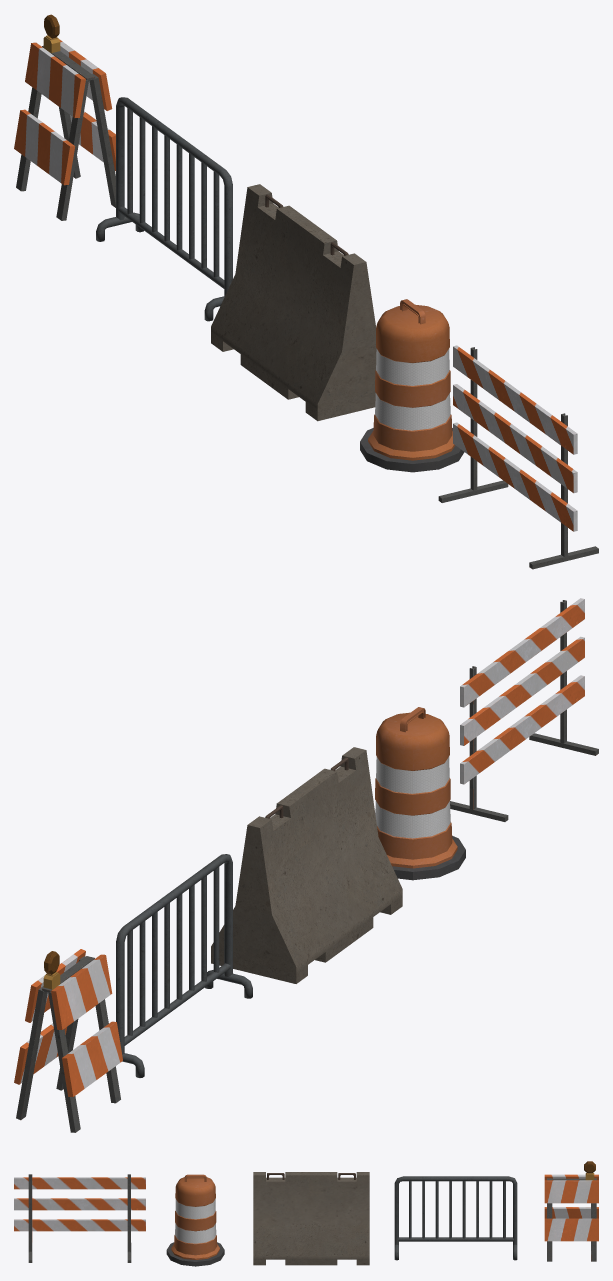
The picture shows the model from 3 angles, top to bottom: view 1: azimuth 30°, elevation 25°; view 2: azimuth 150°, elevation 25°; view 3: azimuth 270°, elevation 25°; orthographic projection. The views are drawn at different scales.
Parts seen in each view (by area): view 1: jersey_barrier, traffic_cone_tall, traffic_sign, traffic_sign.002, Cube.009; view 2: jersey_barrier, traffic_cone_tall, traffic_sign, traffic_sign.002, Cube.009; view 3: jersey_barrier, traffic_sign, traffic_sign.002, traffic_cone_tall, Cube.009.
Part boxes in pixels (x1=…): jersey_barrier: x1=211, y1=184, x2=376, y2=421; traffic_cone_tall: x1=360, y1=299, x2=464, y2=472; traffic_sign: x1=438, y1=345, x2=598, y2=569; traffic_sign.002: x1=14, y1=14, x2=115, y2=220; Cube.009: x1=96, y1=97, x2=232, y2=321; jersey_barrier: x1=211, y1=747, x2=402, y2=983; traffic_cone_tall: x1=375, y1=707, x2=465, y2=880; traffic_sign: x1=450, y1=598, x2=598, y2=821; traffic_sign.002: x1=14, y1=949, x2=122, y2=1132; Cube.009: x1=116, y1=854, x2=252, y2=1077; jersey_barrier: x1=253, y1=1172, x2=369, y2=1265; traffic_sign: x1=14, y1=1174, x2=145, y2=1262; traffic_sign.002: x1=544, y1=1161, x2=598, y2=1261; traffic_cone_tall: x1=166, y1=1174, x2=224, y2=1266; Cube.009: x1=394, y1=1176, x2=517, y2=1260.
Size of the model in its own units: 200 by 352 by 2022.
Materials: 5 (5 with a texture image).
